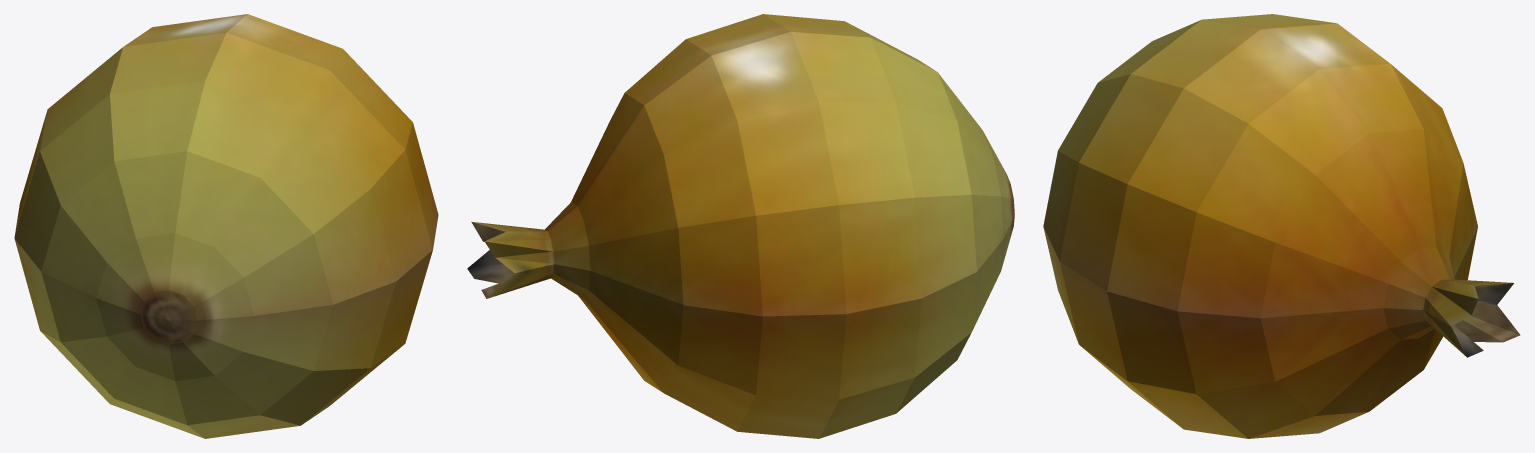
File: onion.obj
The picture shows the model from 3 angles, left to right: view 1: azimuth 30°, elevation 25°; view 2: azimuth 150°, elevation 25°; view 3: azimuth 270°, elevation 25°; orthographic projection.
Parts seen in each view (by area): view 1: Sphere; view 2: Sphere; view 3: Sphere.
Part boxes in pixels (bbox=[...]): Sphere: bbox=[14, 14, 438, 438]; Sphere: bbox=[467, 14, 1014, 438]; Sphere: bbox=[1043, 14, 1520, 438].
Bounding box in the file's own units: 6.14 × 5.5 × 6.15.
Materials: 1 (1 with a texture image).
